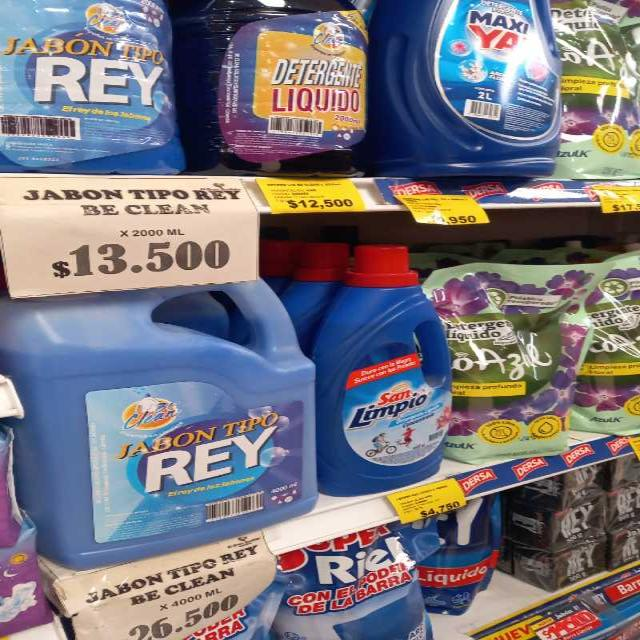Jabon_rey: (17, 288, 313, 558)
